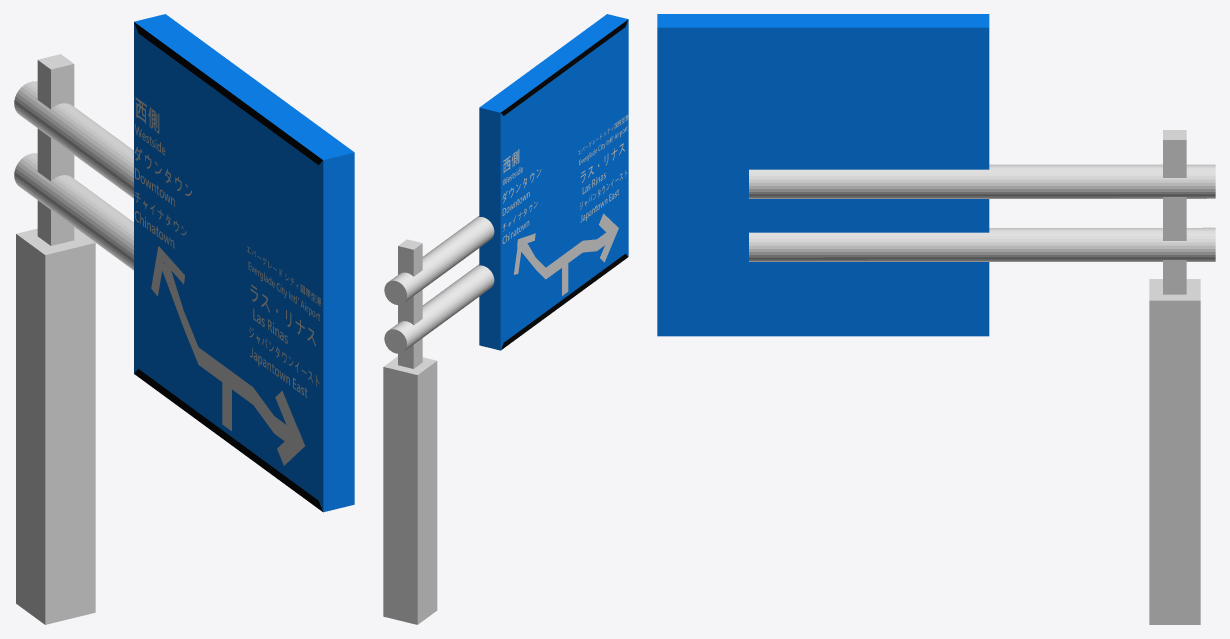
File: japantown_sign_7.fbx
3 renders of one model, left to right at view 1: azimuth 30°, elevation 25°; view 2: azimuth 150°, elevation 25°; view 3: azimuth 270°, elevation 25°, orthographic. The views are drawn at different scales.
Parts seen in each view (by area): view 1: Cube.003, Cube, Cylinder, Cylinder.001, Plane.001, Plane.006, Plane, Plane.005; view 2: Cube.003, Cube, Cylinder.001, Cylinder, Plane.001, Plane.006; view 3: Cube.003, Cube, Cylinder, Cylinder.001.
Boxes of the visible parts, x1,y1,x2,y2 form: Cube.003: (134,14,354,512); Cube: (16,54,95,624); Cylinder: (14,81,133,198); Cylinder.001: (14,153,133,270); Plane.001: (162,259,222,381); Plane.006: (231,371,290,441); Plane: (222,365,231,431); Plane.005: (275,391,303,448); Cube.003: (479,14,628,350); Cube: (383,239,437,624); Cylinder.001: (384,264,494,353); Cylinder: (384,216,494,304); Plane.001: (521,239,561,279); Plane.006: (567,232,609,263); Cube.003: (657,14,989,336); Cube: (1149,130,1200,624); Cylinder: (749,164,1215,198); Cylinder.001: (749,227,1215,261).
Bounding box in the file's own units: 6.54 × 76.11 × 65.5.
